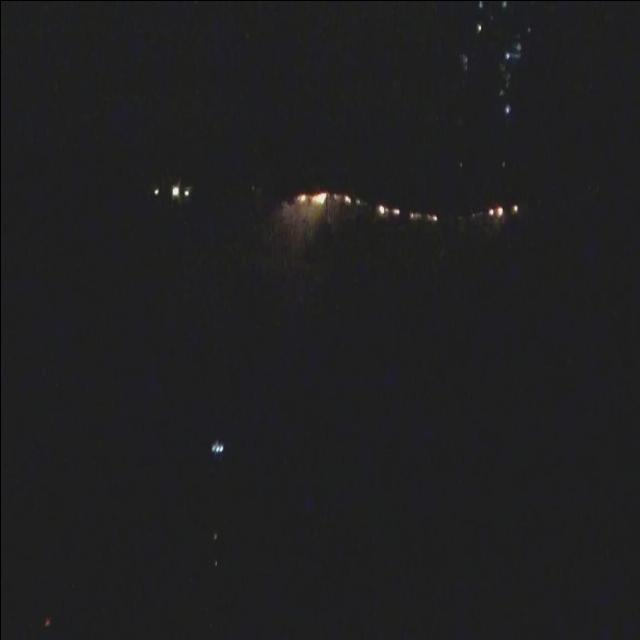Fire: (298, 188, 326, 206), (485, 203, 503, 221), (378, 205, 398, 215), (427, 212, 439, 222), (342, 194, 350, 204)
